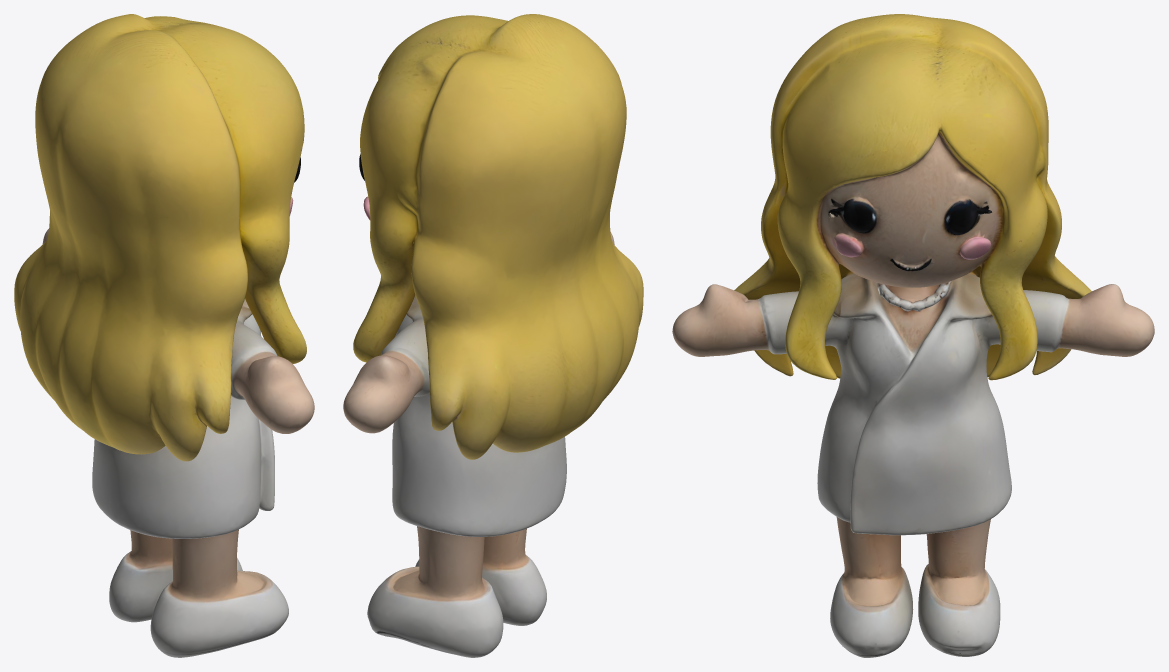
Rendered from maia.glb.
3 renders of one model, left to right at view 1: azimuth 30°, elevation 25°; view 2: azimuth 150°, elevation 25°; view 3: azimuth 270°, elevation 25°, orthographic. The views are drawn at different scales.
Parts seen in each view (by area): view 1: tripo_node_2be52769-d945-46a5-9a8c-dce33d9b753e; view 2: tripo_node_2be52769-d945-46a5-9a8c-dce33d9b753e; view 3: tripo_node_2be52769-d945-46a5-9a8c-dce33d9b753e.
Part boxes in pixels (x1,y1,x2,y2): tripo_node_2be52769-d945-46a5-9a8c-dce33d9b753e: (14,14,314,657); tripo_node_2be52769-d945-46a5-9a8c-dce33d9b753e: (343,14,643,657); tripo_node_2be52769-d945-46a5-9a8c-dce33d9b753e: (672,14,1154,657).
Bounding box in the file's own units: 0.3892 × 0.9999 × 0.7338.
1 material, 1 textured.
